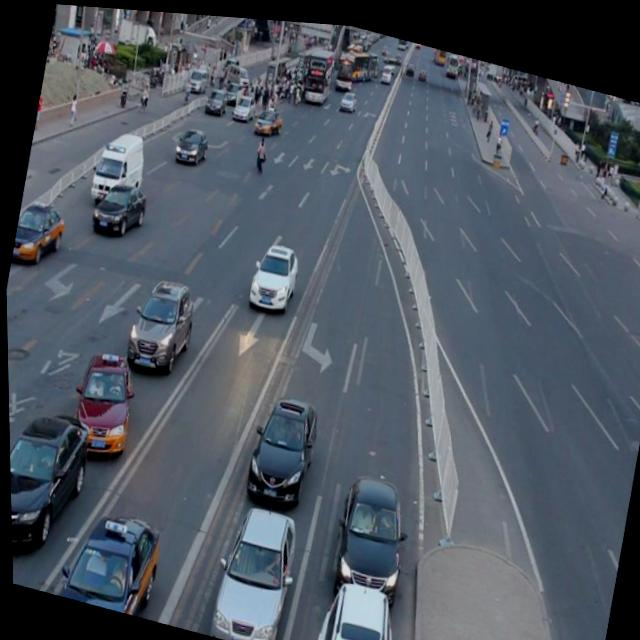car: (43, 494, 164, 619), (202, 493, 301, 640), (7, 396, 93, 563), (322, 463, 415, 606), (237, 384, 322, 510), (64, 344, 140, 463), (119, 268, 199, 380), (307, 568, 408, 640), (9, 194, 68, 273), (244, 232, 302, 312), (89, 173, 150, 240), (172, 121, 210, 165)
truck: (88, 124, 151, 210)
